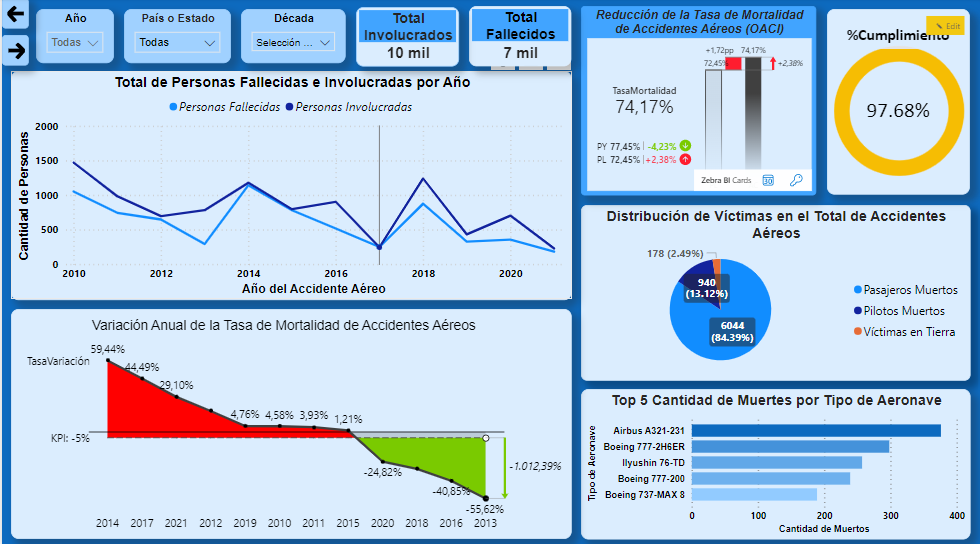

What the dashboard file says about the page in this screenshot:
{"tool":"powerbi","page":{"name":"KPI 1","canvas":[1280,720],"ordinal":0},"visuals":[{"type":"slicer","title":"Año","fields":{"Values":["final_AccidentesAviones.year"]},"box":[44.6,14.4,102.2,70.6],"z":0},{"type":"slicer","title":"País o Estado","fields":{"Values":["final_AccidentesAviones.country"]},"box":[159.8,14.4,139.7,70.6],"z":1000},{"type":"pieChart","title":"Distribución de Víctimas en el Total de Accidentes Aéreos","fields":{"Y":["final_AccidentesAviones.TotalMuertosPasajeros","final_AccidentesAviones.TotalMuertosPilotos","final_AccidentesAviones.TotalMuertosTierra"]},"box":[757.4,270.7,509.8,230.4],"z":2000},{"type":"lineChart","title":"Total de Personas Fallecidas e Involucradas por Año","fields":{"Category":["final_AccidentesAviones.year"],"Y":["Sum(final_AccidentesAviones.TotalFallecidos)","final_AccidentesAviones.TotalInvolucradosActual"]},"box":[11.5,95,734.4,299.5],"z":3000},{"type":"clusteredBarChart","title":"Top 5 Cantidad de Muertes por Tipo de Aeronave","fields":{"Category":["final_AccidentesAviones.ac_type"],"Y":["final_AccidentesAviones.TotalMuertosActual"]},"box":[757.4,511.2,509.8,197.3],"z":4000},{"type":"zebraBiCards2C860CFAA9944091B75F0DBD117F20FA","title":"Reducción de la Tasa de Mortalidad de Accidentes Aéreos (OACI)","fields":{"Values":["final_AccidentesAviones.TasaMortalidad"],"Plan":["final_AccidentesAviones.TotalTasaEsperada"],"PreviousYear":["final_AccidentesAviones.TotalPrevTasaMortalidad"]},"box":[757.4,10.1,308.2,247.7],"z":5000},{"type":"slicer","title":"Década","fields":{"Values":["final_AccidentesAviones.decada"]},"box":[312.5,14.4,136.8,70.6],"z":6000},{"type":"card","title":"Total Fallecidos","fields":{"Values":["final_AccidentesAviones.TotalMuertosActual"]},"box":[612,10.1,133.9,79.2],"z":7000},{"type":"card","title":"Total Involucrados","fields":{"Values":["final_AccidentesAviones.TotalInvolucradosActual"]},"box":[463.7,11.5,135.4,77.8],"z":8000},{"type":"waterfall6C9ED82ABD1F44C4A0D590CE01EB5EE7","fields":{"Values":["final_AccidentesAviones.VariacionTasas"],"Plan":["final_AccidentesAviones.KPI1"],"Category":["final_AccidentesAviones.year"]},"box":[11.5,407.5,734.4,301],"z":9000},{"type":"pureVizInfographicC9801BF222134D2D83FA9C41861F3482","fields":{"dataset":["final_AccidentesAviones.%Cumplimiento","final_AccidentesAviones.Color"]},"box":[1080,14.4,187.2,243.4],"z":10000},{"type":"actionButton","box":[0,21.6,34.6,56.2],"z":12000}]}

Visuals, with their boxes in screenshot pixels (x1, y1, x2, y2), scaled from the page's 1280x720 canvas onto the 980x544 screenshot:
"Año" slicer: BBox(34, 11, 112, 64)
"País o Estado" slicer: BBox(122, 11, 229, 64)
"Distribución de Víctimas en el Total de Accidentes Aéreos" pieChart: BBox(580, 205, 970, 379)
"Total de Personas Fallecidas e Involucradas por Año" lineChart: BBox(9, 72, 571, 298)
"Top 5 Cantidad de Muertes por Tipo de Aeronave" clusteredBarChart: BBox(580, 386, 970, 535)
"Reducción de la Tasa de Mortalidad de Accidentes Aéreos (OACI)" zebraBiCards2C860CFAA9944091B75F0DBD117F20FA: BBox(580, 8, 816, 195)
"Década" slicer: BBox(239, 11, 344, 64)
"Total Fallecidos" card: BBox(469, 8, 571, 67)
"Total Involucrados" card: BBox(355, 9, 459, 67)
waterfall6C9ED82ABD1F44C4A0D590CE01EB5EE7 - final_AccidentesAviones.VariacionTasas x final_AccidentesAviones.KPI1: BBox(9, 308, 571, 535)
pureVizInfographicC9801BF222134D2D83FA9C41861F3482 - final_AccidentesAviones.%Cumplimiento x final_AccidentesAviones.Color: BBox(827, 11, 970, 195)
actionButton: BBox(0, 16, 26, 59)
